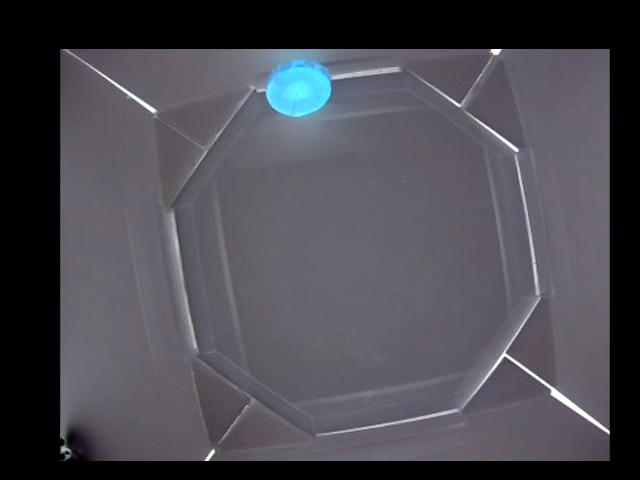Carrot: (264, 60, 332, 115)
